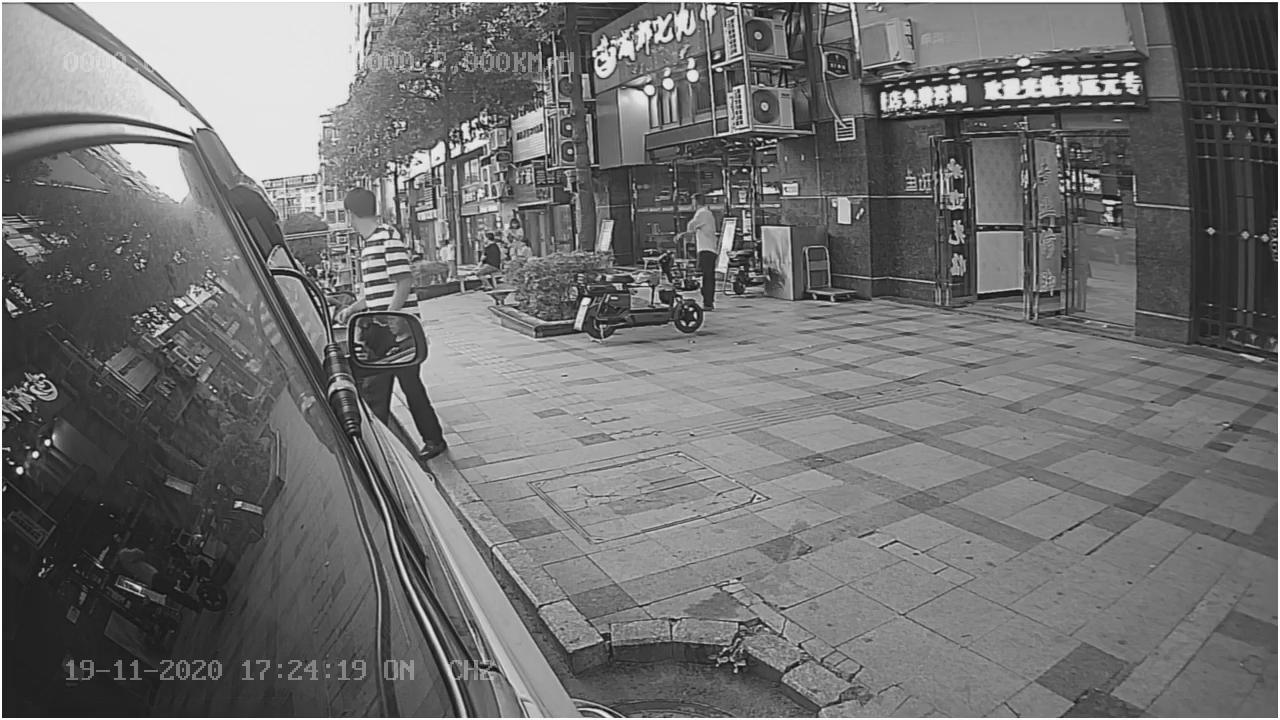person: (334, 184, 425, 309)
